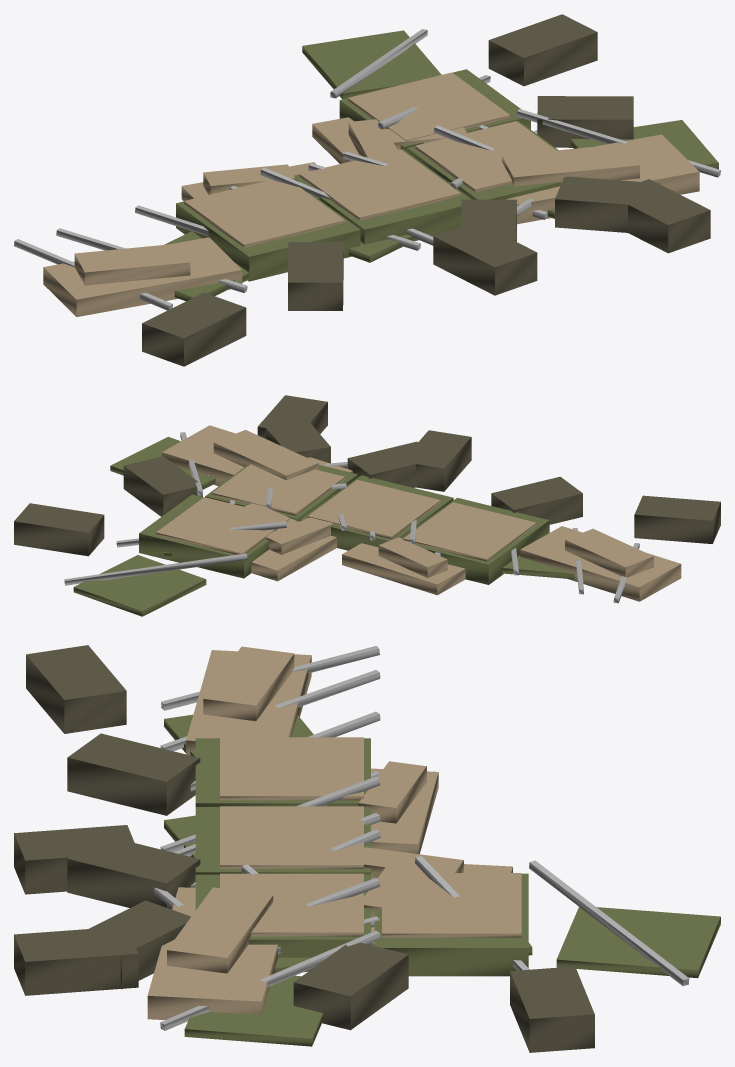
File: SM_HescoRemateEspejo_v3_RemateSacos_e3_Brecha_LOD0.fbx
The picture shows the model from 3 angles, top to bottom: view 1: azimuth 30°, elevation 25°; view 2: azimuth 150°, elevation 25°; view 3: azimuth 270°, elevation 25°; orthographic projection. The views are drawn at different scales.
Visible parts, largest first — view 1: SM_hesco_piezas_v35_LOD0; view 2: SM_hesco_piezas_v35_LOD0; view 3: SM_hesco_piezas_v35_LOD0.
Boxes of the visible parts, x1,y1,x2,y2 form: SM_hesco_piezas_v35_LOD0: (14,14,720,366); SM_hesco_piezas_v35_LOD0: (14,395,720,616); SM_hesco_piezas_v35_LOD0: (14,645,720,1052).
Bounding box in the file's own units: 6.29 × 0.3263 × 4.92.
